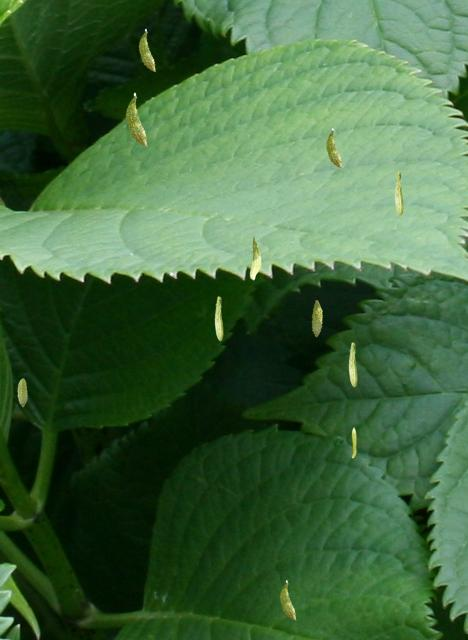ampalaya: (125, 92, 147, 147), (138, 28, 156, 72), (325, 128, 342, 168), (279, 580, 296, 620), (249, 234, 261, 280), (311, 299, 323, 337), (348, 342, 357, 387), (394, 171, 403, 216), (214, 296, 223, 341), (17, 378, 28, 407), (351, 427, 356, 458)
